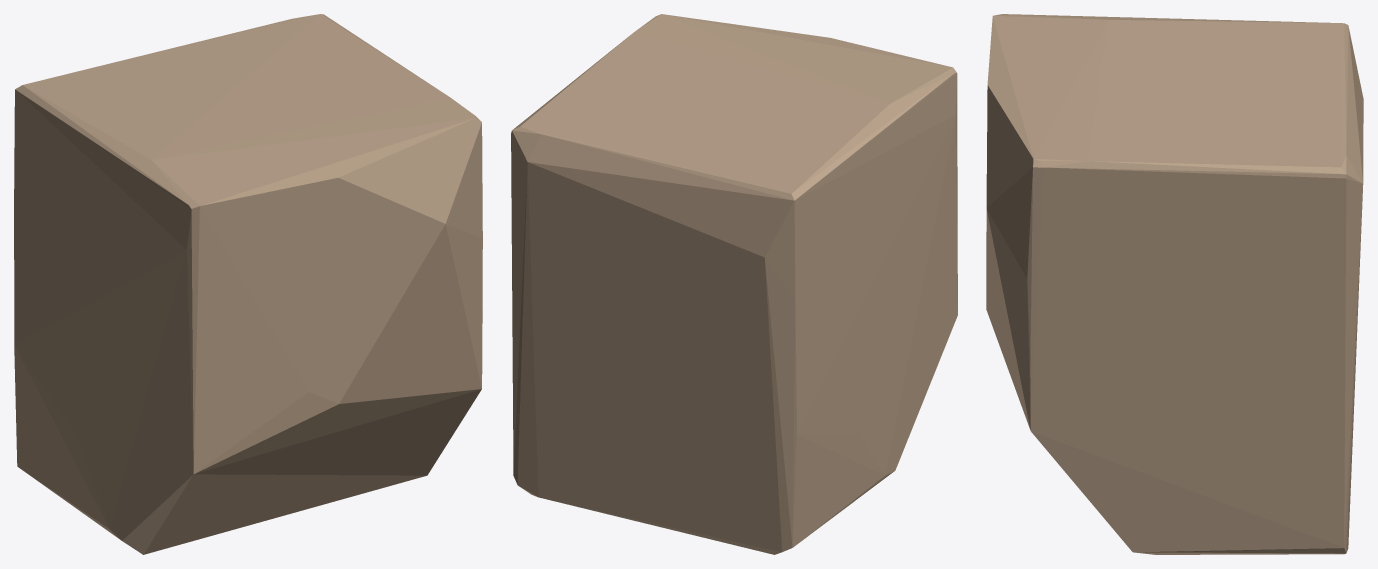
Rendered from computer_printer_office_a01.glb.
3 views of the same model, side by side, from view 1: azimuth 30°, elevation 25°; view 2: azimuth 150°, elevation 25°; view 3: azimuth 270°, elevation 25° (orthographic). The views are drawn at different scales.
Visible parts, largest first — view 1: geometry_0; view 2: geometry_0; view 3: geometry_0.
Part boxes in pixels (x1,y1,x2,y2): geometry_0: (14, 14, 482, 554); geometry_0: (511, 14, 957, 554); geometry_0: (986, 14, 1363, 554).
Bounding box in the file's own units: 0.3814 × 0.4737 × 0.4023.
